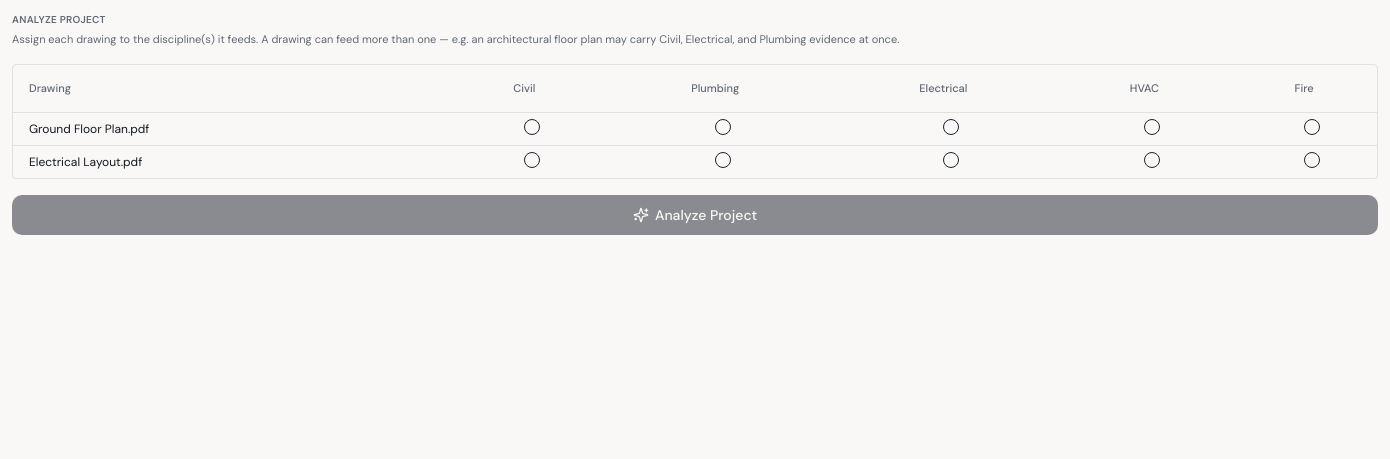
Test: WorkspaceAnalyzePanel — assignment step › checking a document for multiple disciplines previews it under EACH discipline, never forcing one choice
Expected: the text "Ground Floor Plan.pdf" is shown, top-left (13, 112), bottom-right (447, 146)
Click the checkbox named "Assign Ground Floor Plan.pdf to Civil Works" at (532, 127), box top-left (524, 119), bottom-right (540, 135)
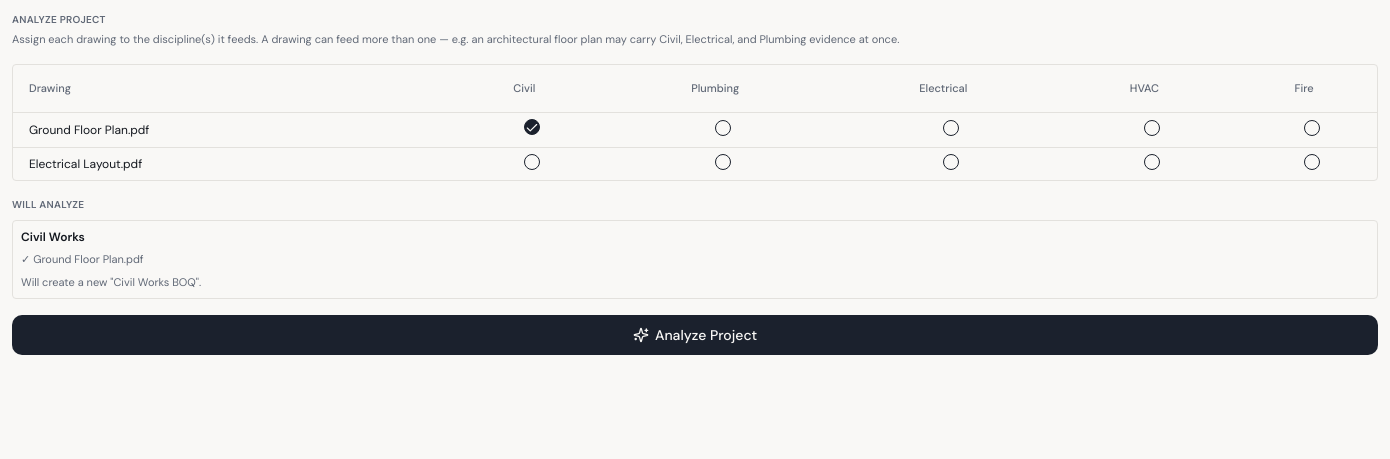
Click the checkbox named "Assign Ground Floor Plan.pdf to Electrical Works" at (951, 128), box top-left (943, 120), bottom-right (959, 136)
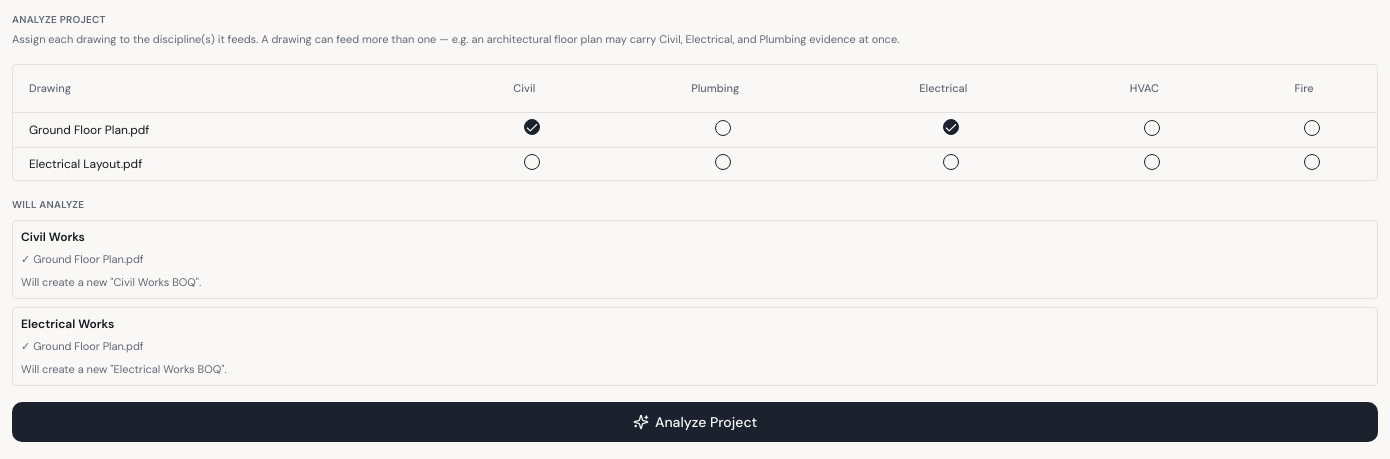
Now the text "Civil Works" is shown, box top-left (21, 229), bottom-right (85, 245)
Now the button "Analyze Project" is enabled, box top-left (12, 402), bottom-right (1378, 442)
Now the text "Electrical Works" is shown, box top-left (21, 316), bottom-right (114, 332)
